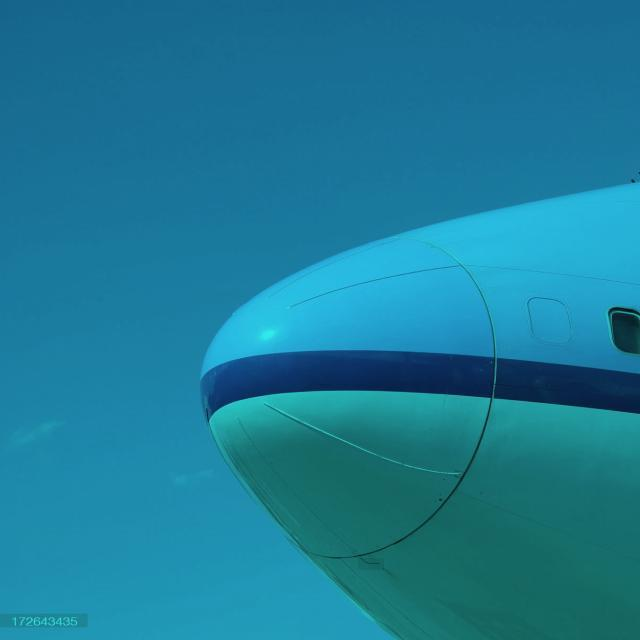crack: (359, 559, 385, 571)
